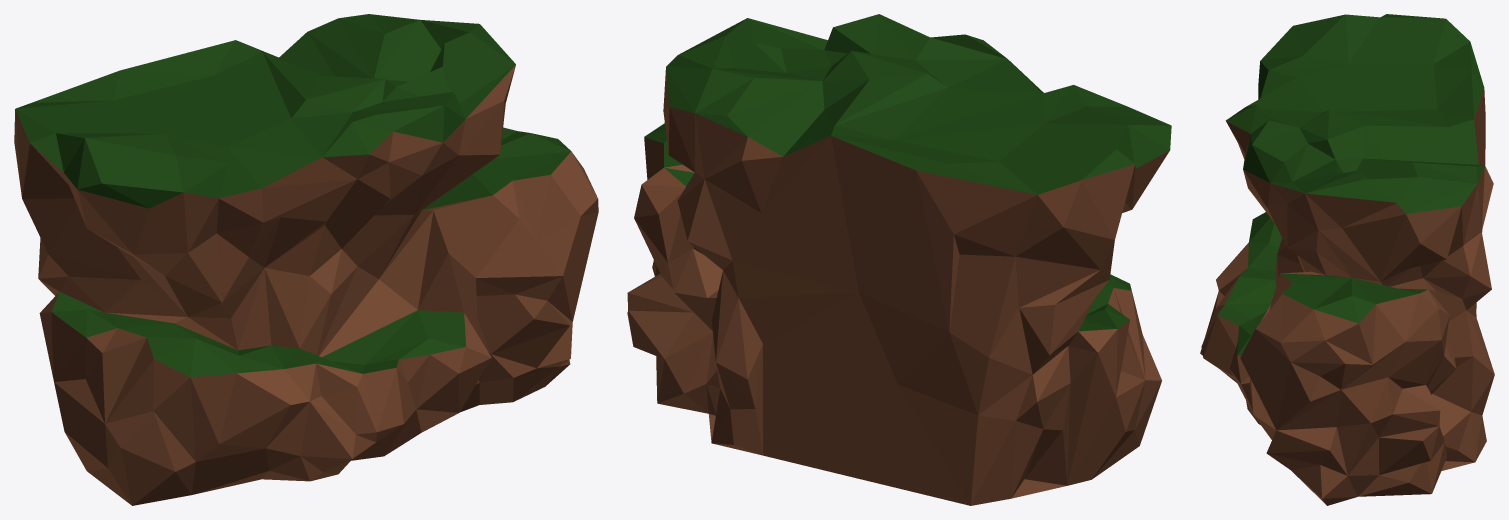
The model's file is SM_cliff_grass_05.fbx.
The picture shows the model from 3 angles, left to right: view 1: azimuth 30°, elevation 25°; view 2: azimuth 150°, elevation 25°; view 3: azimuth 270°, elevation 25°; orthographic projection. The views are drawn at different scales.
Parts seen in each view (by area): view 1: cliff_grass_05; view 2: cliff_grass_05; view 3: cliff_grass_05.
Part boxes in pixels (x1=…): cliff_grass_05: x1=14, y1=14, x2=598, y2=505; cliff_grass_05: x1=627, y1=14, x2=1171, y2=505; cliff_grass_05: x1=1200, y1=14, x2=1494, y2=505.
Bounding box in the file's own units: 3451 × 2242 × 1972.
